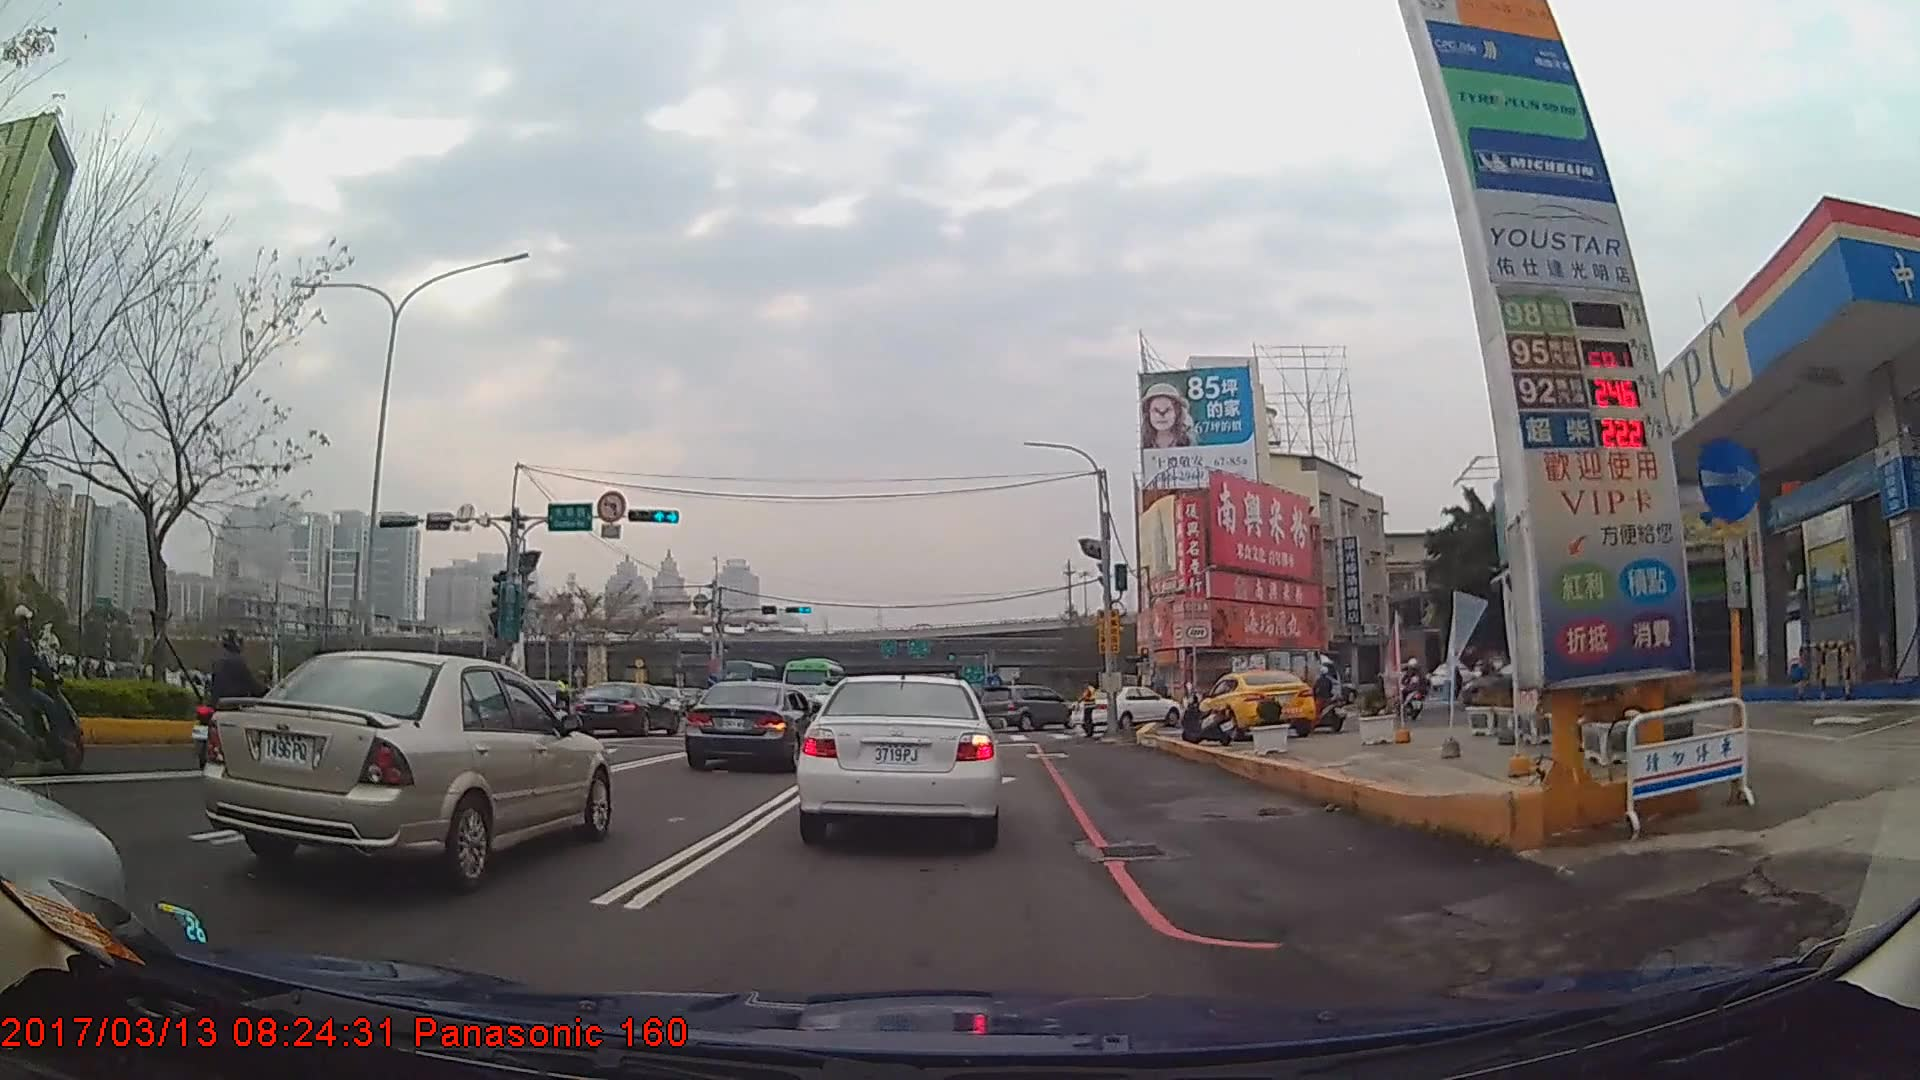pedestrian: (1072, 680, 1098, 739)
rider: (186, 627, 278, 781), (6, 606, 84, 779), (1305, 666, 1346, 735), (1398, 658, 1425, 722)
vehicle: (205, 648, 611, 893), (798, 668, 1001, 845), (682, 680, 819, 771), (1193, 667, 1317, 737), (1224, 647, 1341, 715), (571, 680, 677, 734), (1071, 681, 1180, 729), (979, 683, 1077, 729), (778, 656, 847, 713)
